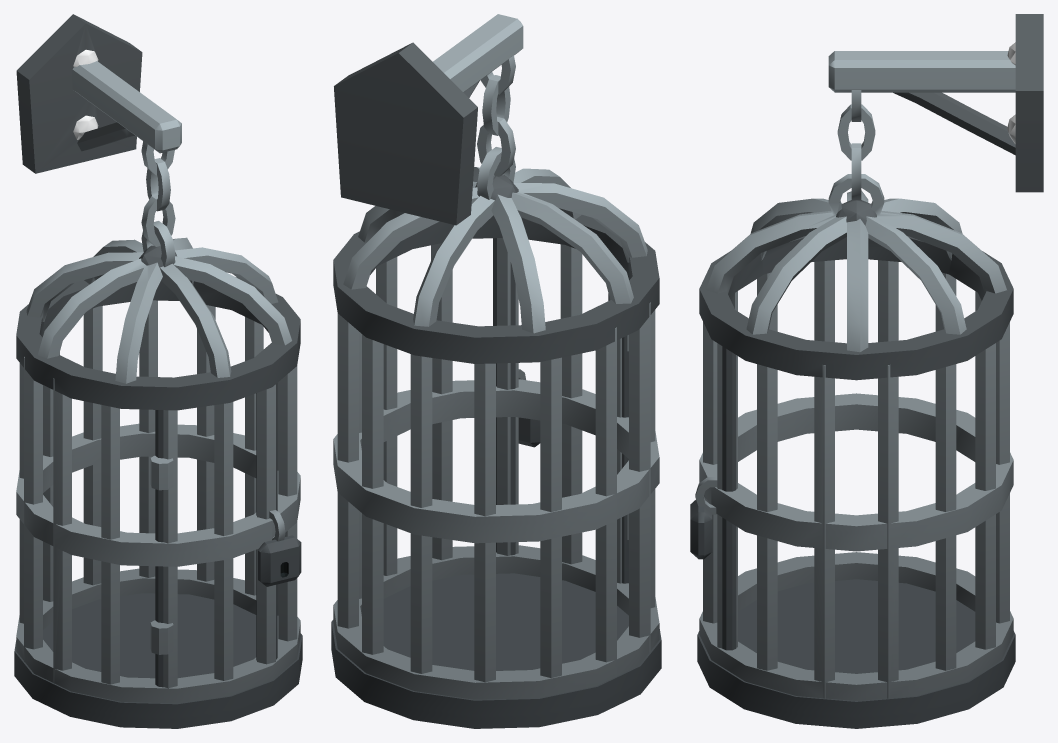
The model's file is hanging_cage.glb.
The picture shows the model from 3 angles, left to right: view 1: azimuth 30°, elevation 25°; view 2: azimuth 150°, elevation 25°; view 3: azimuth 270°, elevation 25°; orthographic projection. The views are drawn at different scales.
Parts seen in each view (by area): view 1: hanging_cage; view 2: hanging_cage; view 3: hanging_cage.
Boxes of the visible parts, left/top/right/bottom form: hanging_cage: left=14, top=14, right=302, bottom=728; hanging_cage: left=331, top=14, right=661, bottom=728; hanging_cage: left=690, top=14, right=1043, bottom=728.
Bounding box in the file's own units: 1.6 × 3.59 × 1.77.
1 material, 1 textured.
